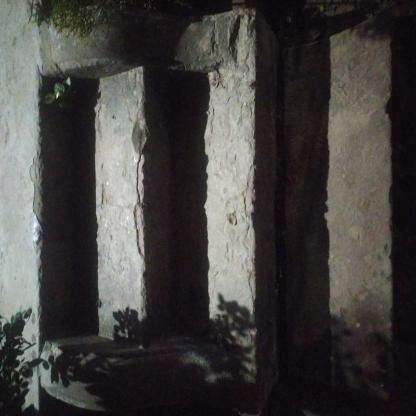stair: (1, 54, 416, 394)
